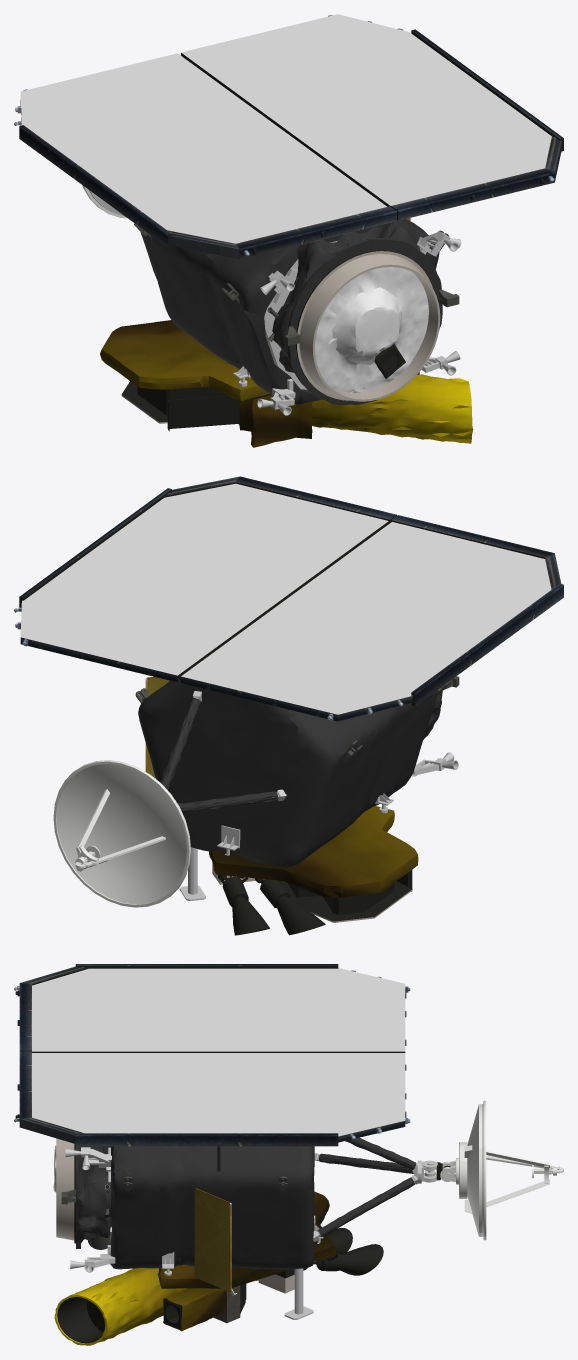
File: deepimpact_lod0.glb
3 renders of one model, top to bottom at view 1: azimuth 30°, elevation 25°; view 2: azimuth 150°, elevation 25°; view 3: azimuth 270°, elevation 25°, orthographic. The views are drawn at different scales.
Parts seen in each view (by area): view 1: deepimpact_lod0; view 2: deepimpact_lod0; view 3: deepimpact_lod0.
Part boxes in pixels (x1,y1,x2,y2): deepimpact_lod0: (14,14,563,447); deepimpact_lod0: (14,476,563,935); deepimpact_lod0: (14,964,563,1345).
Size of the model in its own units: 2.89 by 2 by 3.93.
9 materials, 3 textured.
